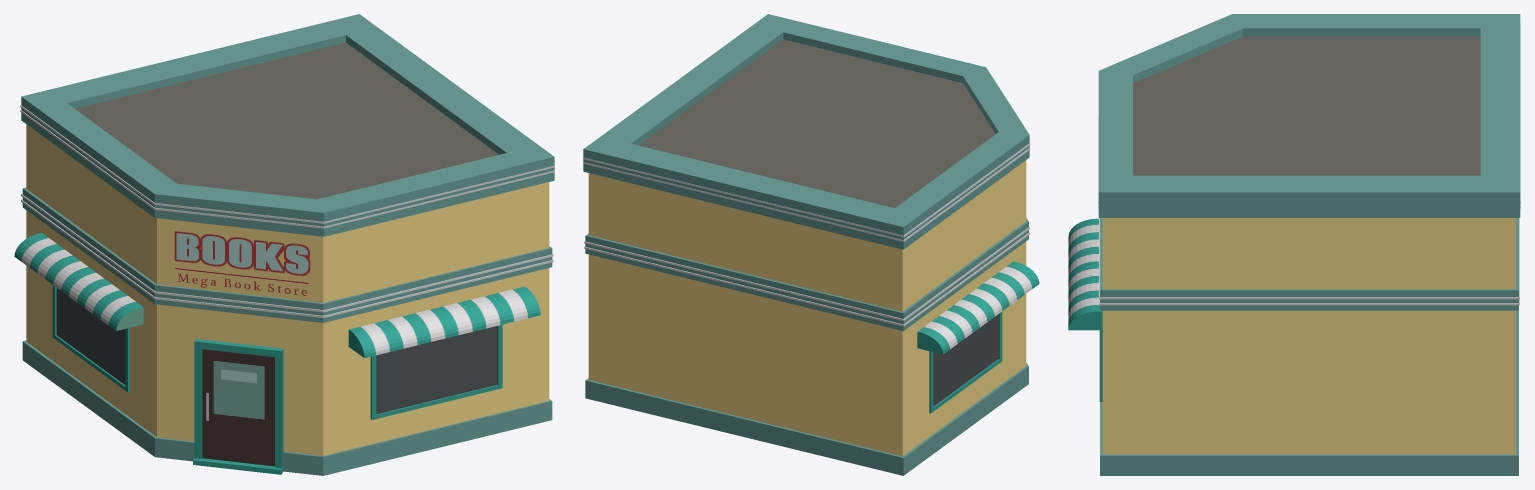
File: Building_Books_Shop.glb
The picture shows the model from 3 angles, left to right: view 1: azimuth 30°, elevation 25°; view 2: azimuth 150°, elevation 25°; view 3: azimuth 270°, elevation 25°; orthographic projection. The views are drawn at different scales.
Parts seen in each view (by area): view 1: Building_Books Shop; view 2: Building_Books Shop; view 3: Building_Books Shop.
Boxes of the visible parts, x1,y1,x2,y2 form: Building_Books Shop: (14, 14, 554, 475); Building_Books Shop: (583, 14, 1039, 475); Building_Books Shop: (1068, 14, 1520, 475).
Bounding box in the file's own units: 12.04 × 8.36 × 12.04.
1 material, 1 textured.
